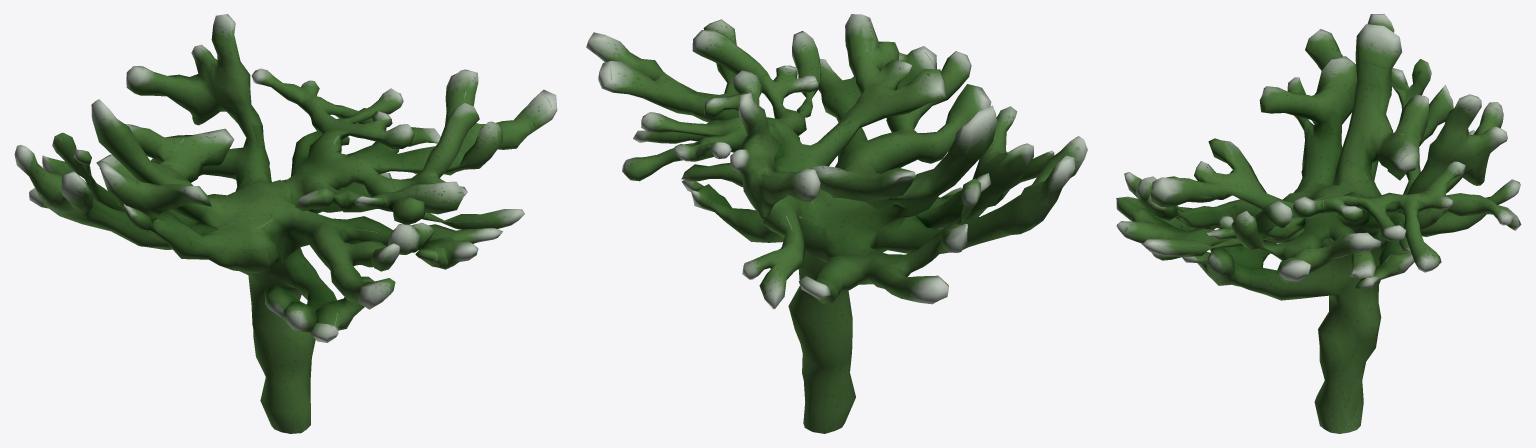
File: 15-Elkhorn.fbx
3 renders of one model, left to right at view 1: azimuth 30°, elevation 25°; view 2: azimuth 150°, elevation 25°; view 3: azimuth 270°, elevation 25°, orthographic. The views are drawn at different scales.
Parts seen in each view (by area): view 1: 15-Elkhorn_LOD00; view 2: 15-Elkhorn_LOD00; view 3: 15-Elkhorn_LOD00.
Boxes of the visible parts, x1,y1,x2,y2 form: 15-Elkhorn_LOD00: (14,14,557,433); 15-Elkhorn_LOD00: (586,14,1087,433); 15-Elkhorn_LOD00: (1116,14,1521,433).
Size of what is drawn, in the model's own units: 145 by 99.85 by 110.
